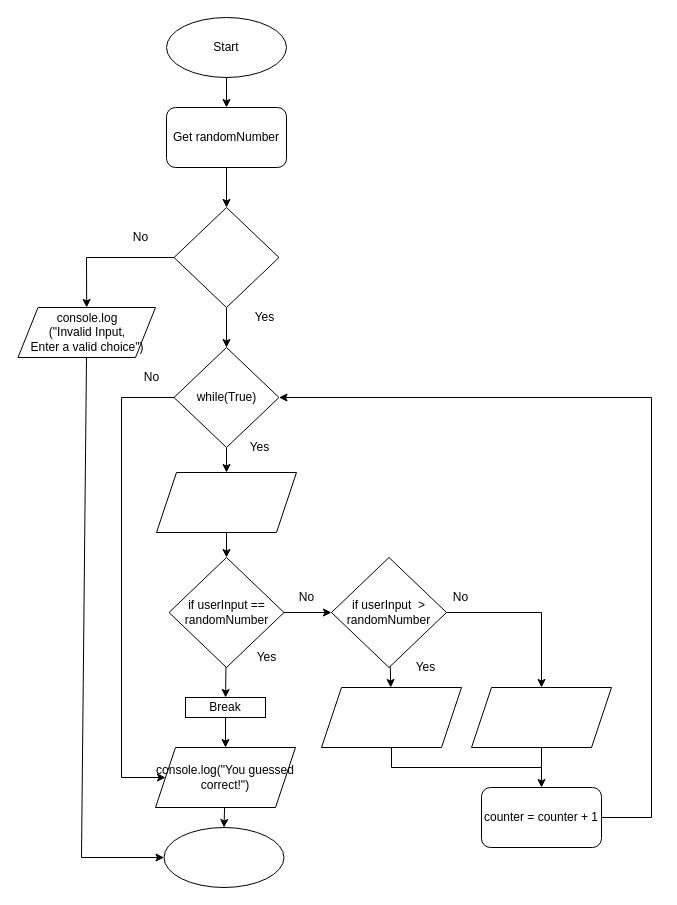
Some shapes in this 677 by 905 pixel diagram are drawn without their labels. The centre of each missing label's shape, as x and y in pixels:
console.log("You guessed incorrect, the number to high!"): (391,717)
console.log("You guessed incorrect, the number to low!"): (541,717)
Get userInput: (226,502)
if (userInput < 6 || > 0): (226,257)
Stop: (223,857)
